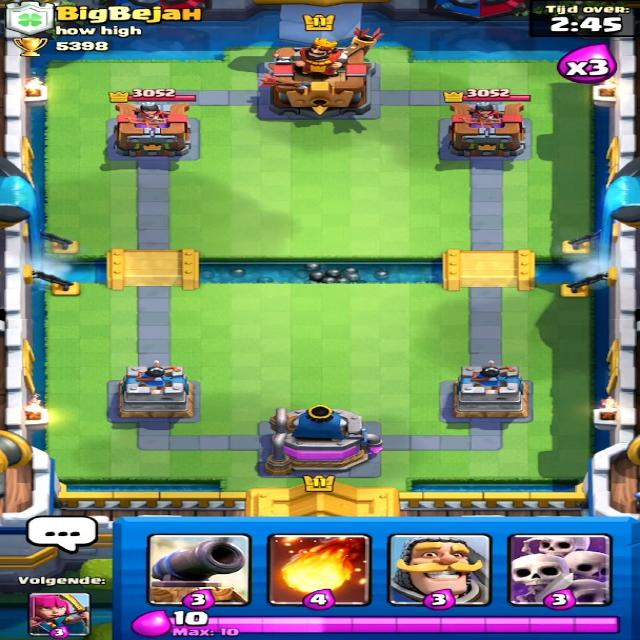Cannon_Card: (145, 535, 251, 604)
Fireball_Card: (268, 531, 369, 607)
